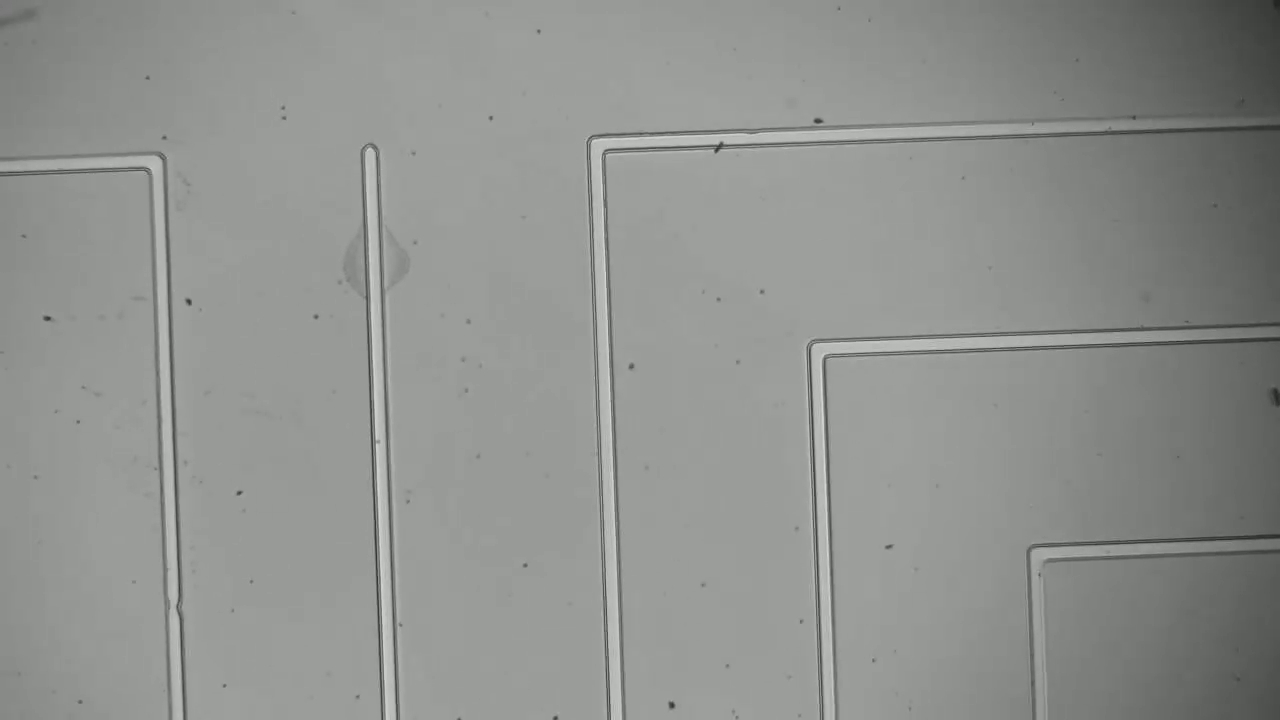edge_bite: (157, 593, 196, 621)
stains_enbedded: (705, 121, 734, 158)
